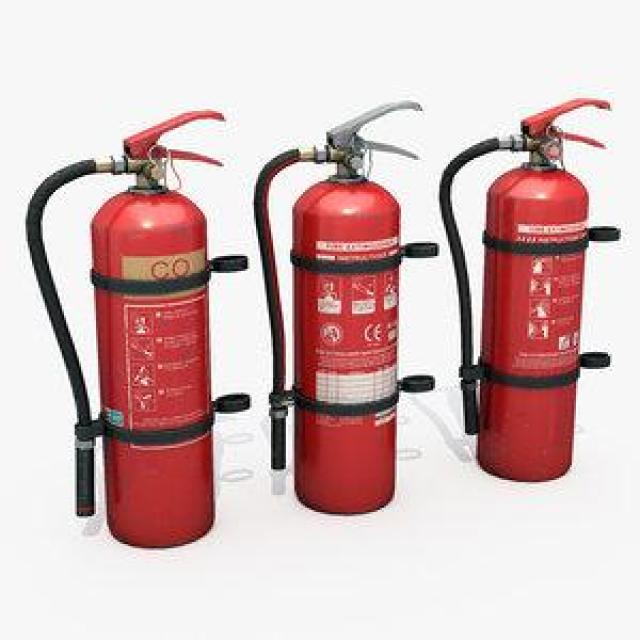fire_extinguisher: (16, 102, 227, 552), (245, 95, 427, 519), (431, 94, 612, 482)
